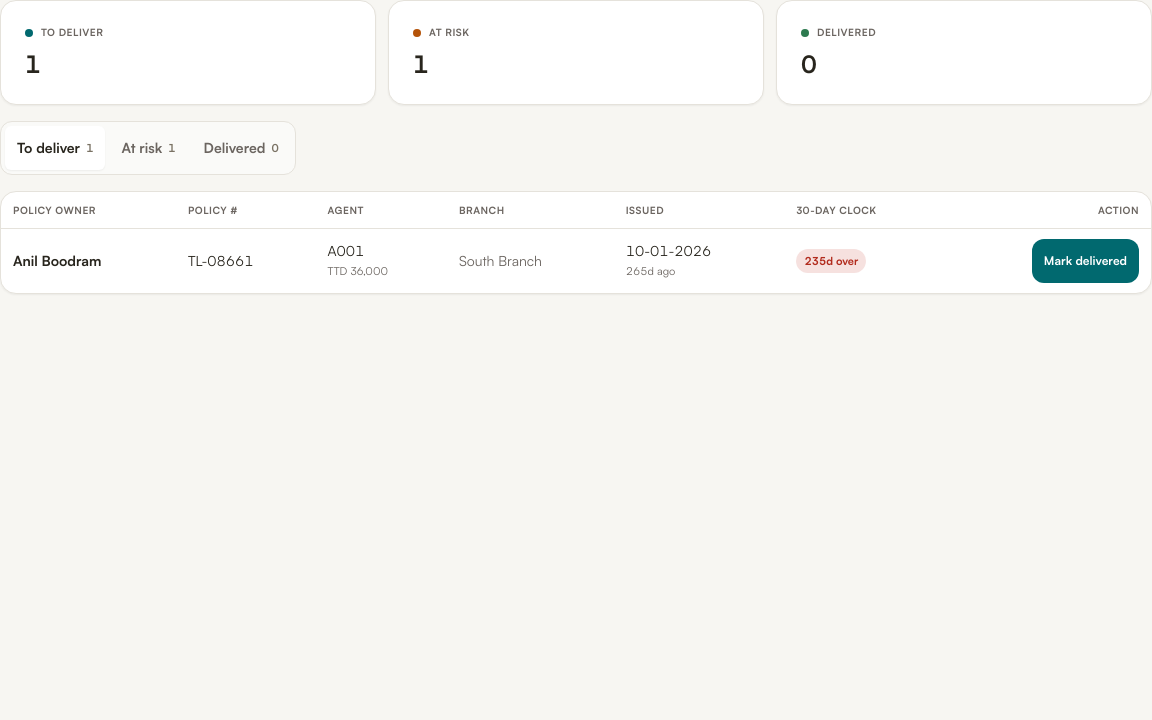
Test: DeliveryRegisterPanel — mark delivered › surfaces a permission-denied error inside the dialog and does not flip the row
The width and height of the screenshot is (1152, 720).
Click the button with test id "mark-delivered-btn" at (1085, 261), box x1=1032 y1=239 x2=1139 y2=283
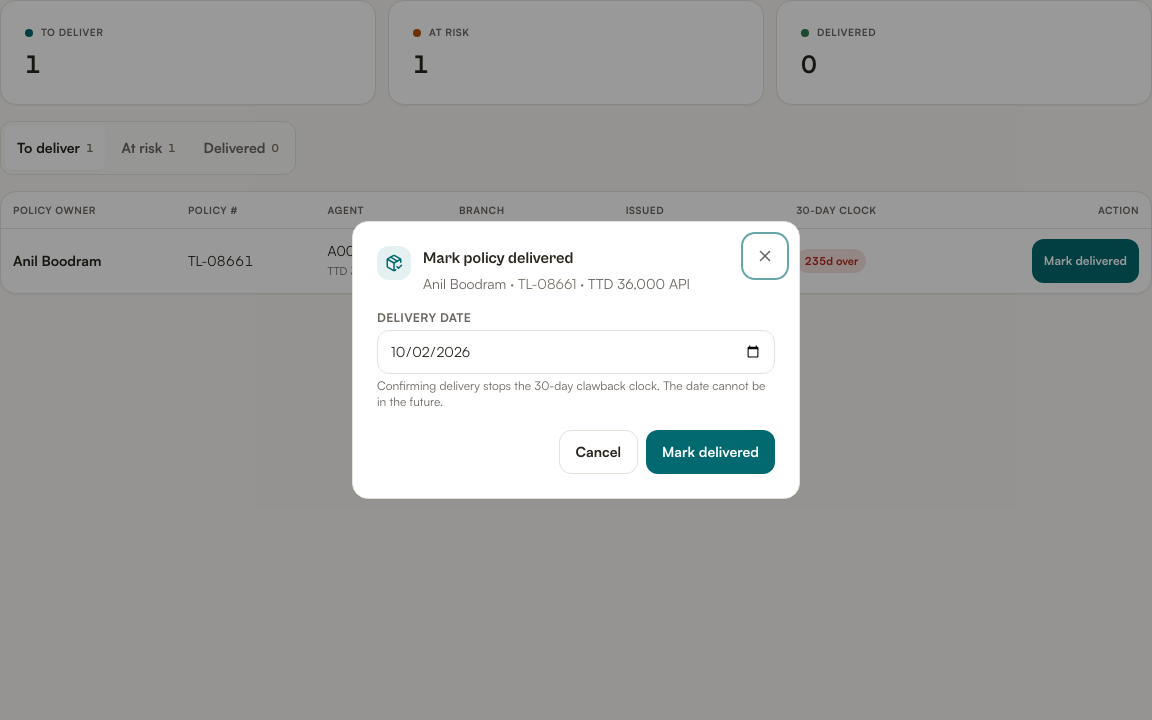
Click the button with test id "mark-delivered-confirm" at (710, 452), box x1=646 y1=430 x2=775 y2=474
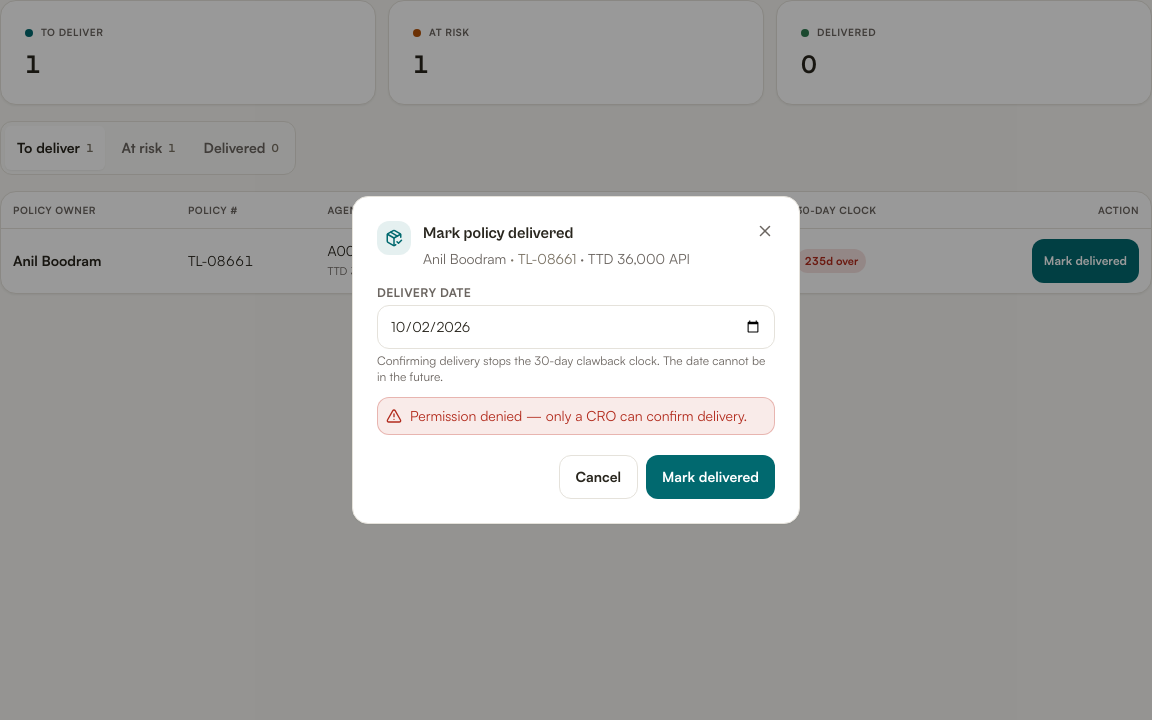
Expected: the dialog with test id "mark-delivered-dialog" is shown, x1=352 y1=196 x2=800 y2=524
Expected: the text "Permission denied — only a CRO can confirm delivery." is shown, x1=410 y1=406 x2=747 y2=426
